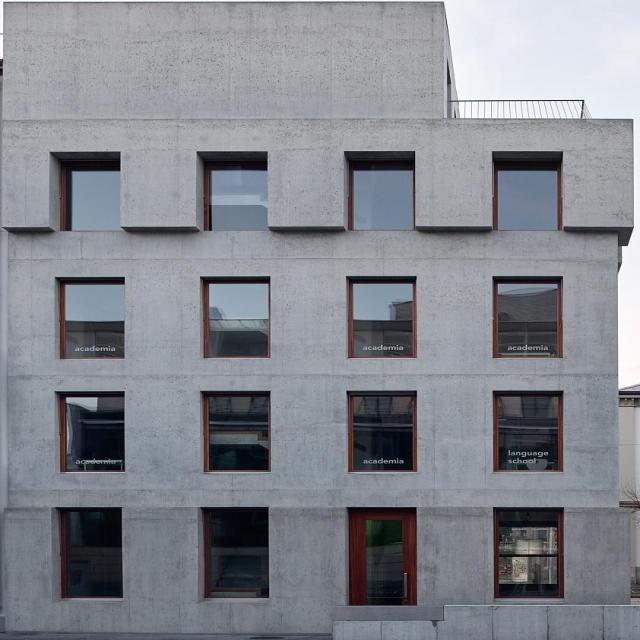Railing: (451, 98, 597, 120)
door: (349, 507, 417, 605)
wall: (2, 1, 635, 635)
windows: (349, 278, 414, 358), (351, 388, 415, 468), (495, 280, 556, 358), (497, 389, 558, 467), (500, 509, 561, 587), (64, 395, 126, 471), (59, 512, 120, 588), (352, 158, 416, 228), (496, 160, 558, 230), (209, 394, 266, 469), (203, 511, 260, 586), (65, 166, 125, 230), (210, 164, 268, 230), (208, 284, 266, 350), (63, 286, 122, 350)
